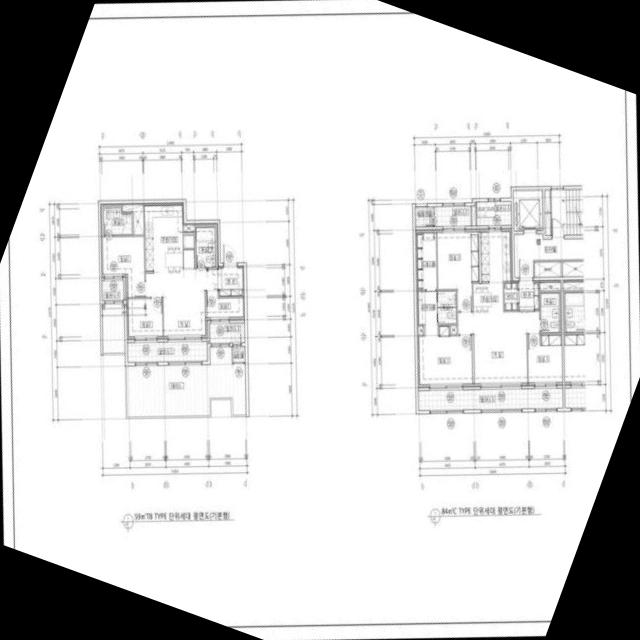background: (0, 0, 640, 640)
space_balconi: (418, 389, 563, 410), (127, 342, 208, 362), (477, 202, 511, 226), (435, 206, 471, 226), (210, 323, 245, 343), (102, 281, 124, 300)
space_bedroom: (437, 230, 479, 311), (417, 326, 472, 387), (101, 237, 145, 297), (528, 334, 562, 385), (127, 299, 163, 339), (207, 292, 245, 320)
space_dressroom: (416, 230, 437, 290), (417, 291, 438, 337)
space_elevator: (513, 190, 543, 231)
space_elevator_hall: (514, 234, 584, 277)
space_front: (519, 281, 539, 310)
space_kitchen: (145, 203, 195, 274), (473, 229, 512, 313), (217, 266, 244, 297)
space_living_room: (458, 312, 540, 386), (146, 269, 218, 339)
space_other: (123, 204, 144, 235), (504, 281, 518, 310), (535, 262, 561, 277), (562, 262, 584, 277), (545, 190, 551, 236), (540, 281, 561, 291), (472, 202, 476, 226), (184, 224, 194, 232), (417, 326, 424, 335), (451, 326, 457, 334)
space_outdoor_room: (415, 207, 434, 227), (233, 347, 245, 362)
space_staircase: (551, 189, 583, 236)
space_toilet: (540, 292, 561, 333), (196, 227, 216, 267), (103, 208, 132, 235), (438, 308, 457, 324), (438, 291, 456, 307)
